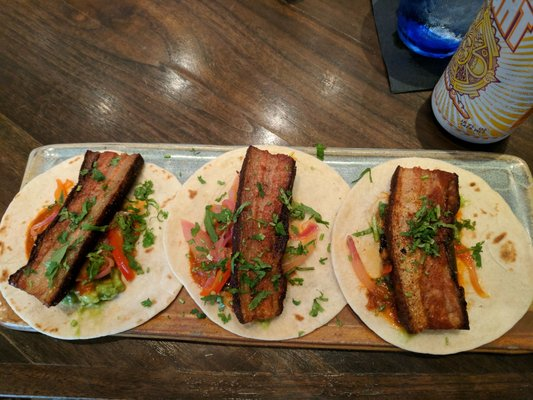soup: (168, 145, 349, 326)
